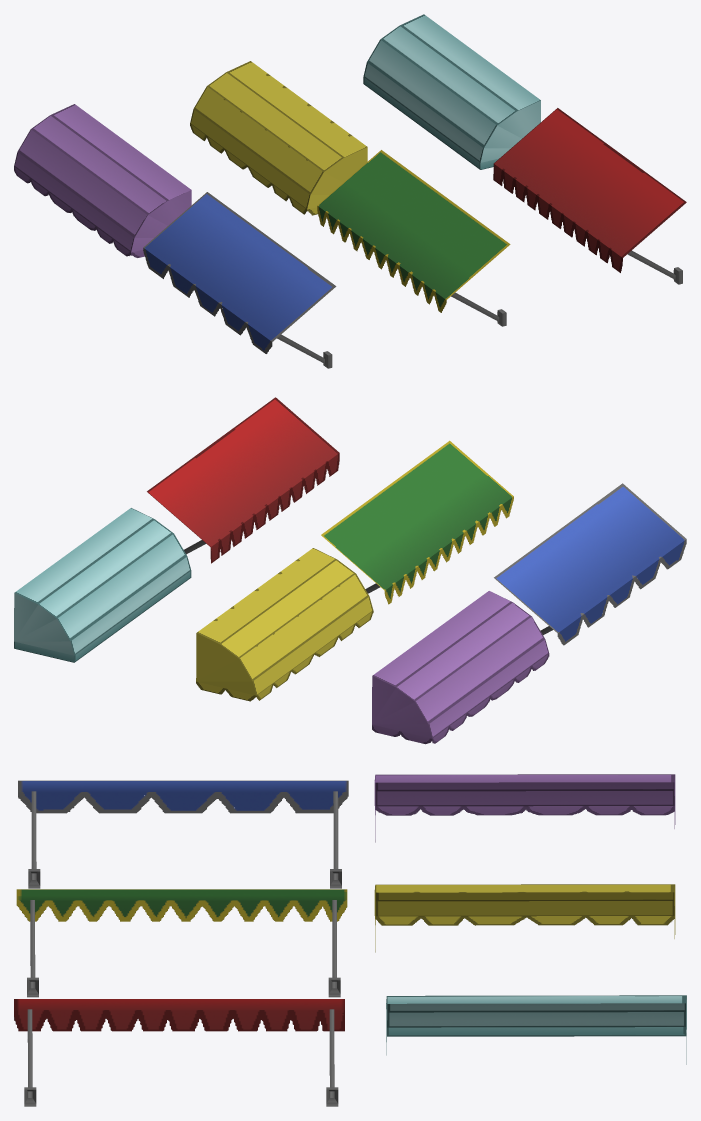
The model's file is toldo_mod.fbx.
3 renders of one model, top to bottom at view 1: azimuth 30°, elevation 25°; view 2: azimuth 150°, elevation 25°; view 3: azimuth 270°, elevation 25°, orthographic. The views are drawn at different scales.
Visible parts, largest first — view 1: toldo_red, toldo_azul, toldo_verde, toldo_azulc, toldo_roxo, toldo_amarelo; view 2: toldo_azulc, toldo_roxo, toldo_amarelo, toldo_red, toldo_azul, toldo_verde; view 3: toldo_azulc, toldo_roxo, toldo_amarelo, toldo_red, toldo_azul, toldo_verde.
Part boxes in pixels (left/top/right/bottom): toldo_red: left=493, top=108, right=686, bottom=284; toldo_azul: left=143, top=192, right=336, bottom=368; toldo_verde: left=317, top=150, right=510, bottom=326; toldo_azulc: left=363, top=14, right=540, bottom=169; toldo_roxo: left=14, top=104, right=191, bottom=257; toldo_amarelo: left=190, top=61, right=367, bottom=215; toldo_azulc: left=14, top=508, right=191, bottom=662; toldo_roxo: left=372, top=591, right=549, bottom=744; toldo_amarelo: left=196, top=548, right=373, bottom=701; toldo_red: left=147, top=397, right=339, bottom=563; toldo_azul: left=494, top=483, right=686, bottom=645; toldo_verde: left=321, top=440, right=513, bottom=604; toldo_azulc: left=386, top=995, right=686, bottom=1064; toldo_roxo: left=374, top=774, right=675, bottom=842; toldo_amarelo: left=374, top=884, right=675, bottom=952; toldo_red: left=14, top=999, right=344, bottom=1106; toldo_azul: left=18, top=780, right=348, bottom=888; toldo_verde: left=16, top=889, right=347, bottom=997.
Size of the model in its own units: 656 by 127 by 719.
